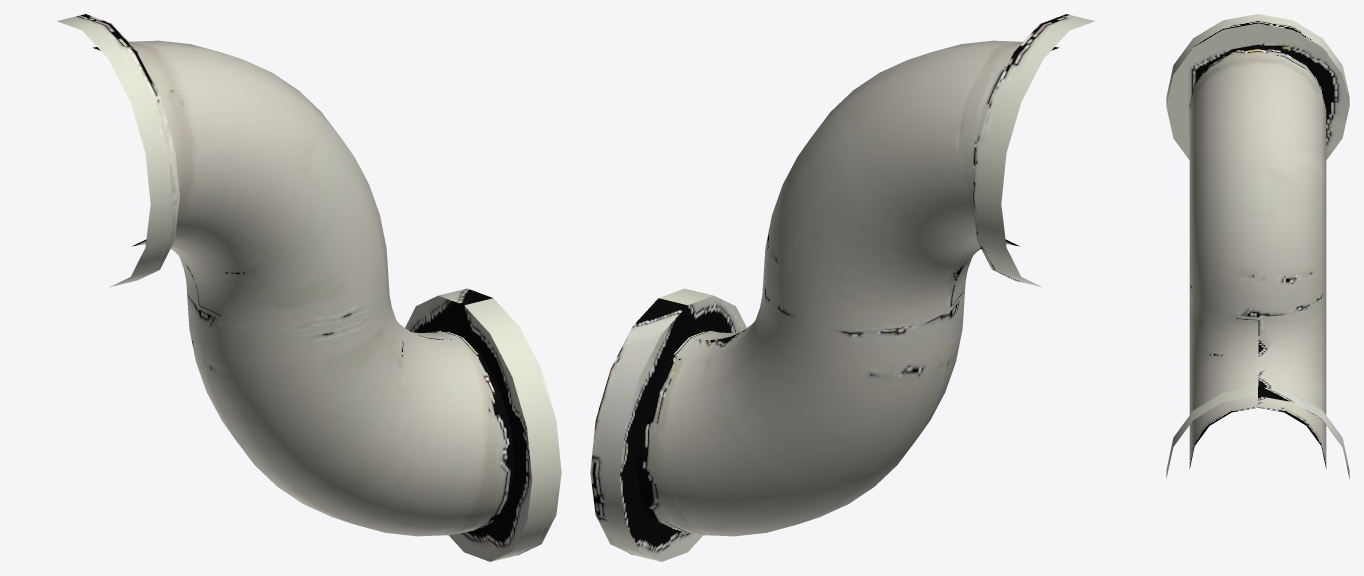
3 views of the same model, side by side, from view 1: azimuth 30°, elevation 25°; view 2: azimuth 150°, elevation 25°; view 3: azimuth 270°, elevation 25° (orthographic). The views are drawn at different scales.
Visible parts, largest first — view 1: body0_model0_lod0_mesh0; view 2: body0_model0_lod0_mesh0; view 3: body0_model0_lod0_mesh0.
Part boxes in pixels (bbox=[...]): body0_model0_lod0_mesh0: bbox=[56, 14, 561, 561]; body0_model0_lod0_mesh0: bbox=[590, 14, 1095, 561]; body0_model0_lod0_mesh0: bbox=[1166, 14, 1349, 478].
Bounding box in the file's own units: 56 × 80.02 × 32.16.
Materials: 1 (1 with a texture image).
